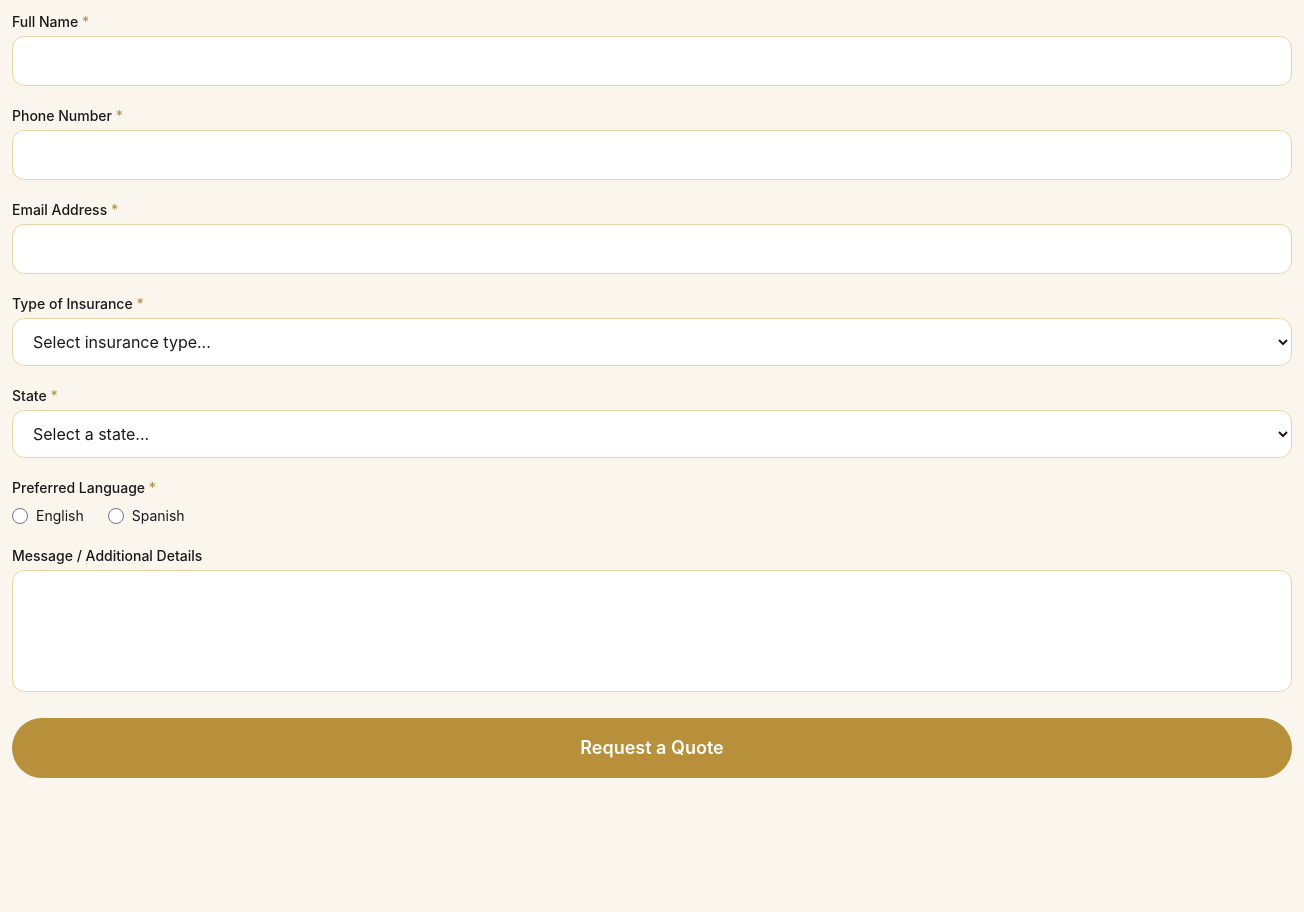
it: QuoteForm › shows email validation error for invalid email
The image size is (1304, 912).
Type "not-an-email" into the field labelled "Email Address *". click: coordinates (652, 249)
box: [12, 224, 1292, 274]
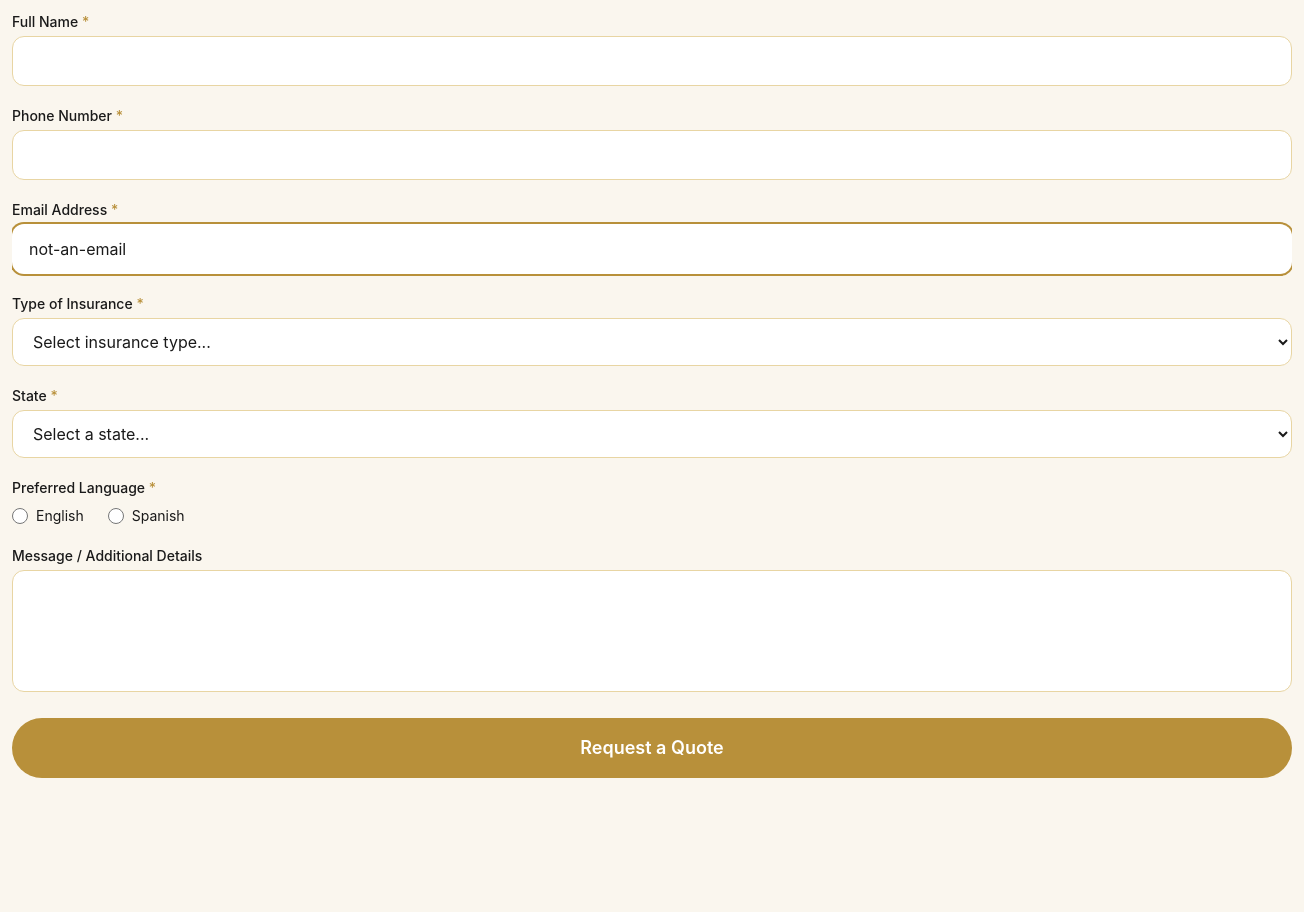
Click the button "Request a Quote". click: coordinates (652, 748)
box: [12, 718, 1292, 778]
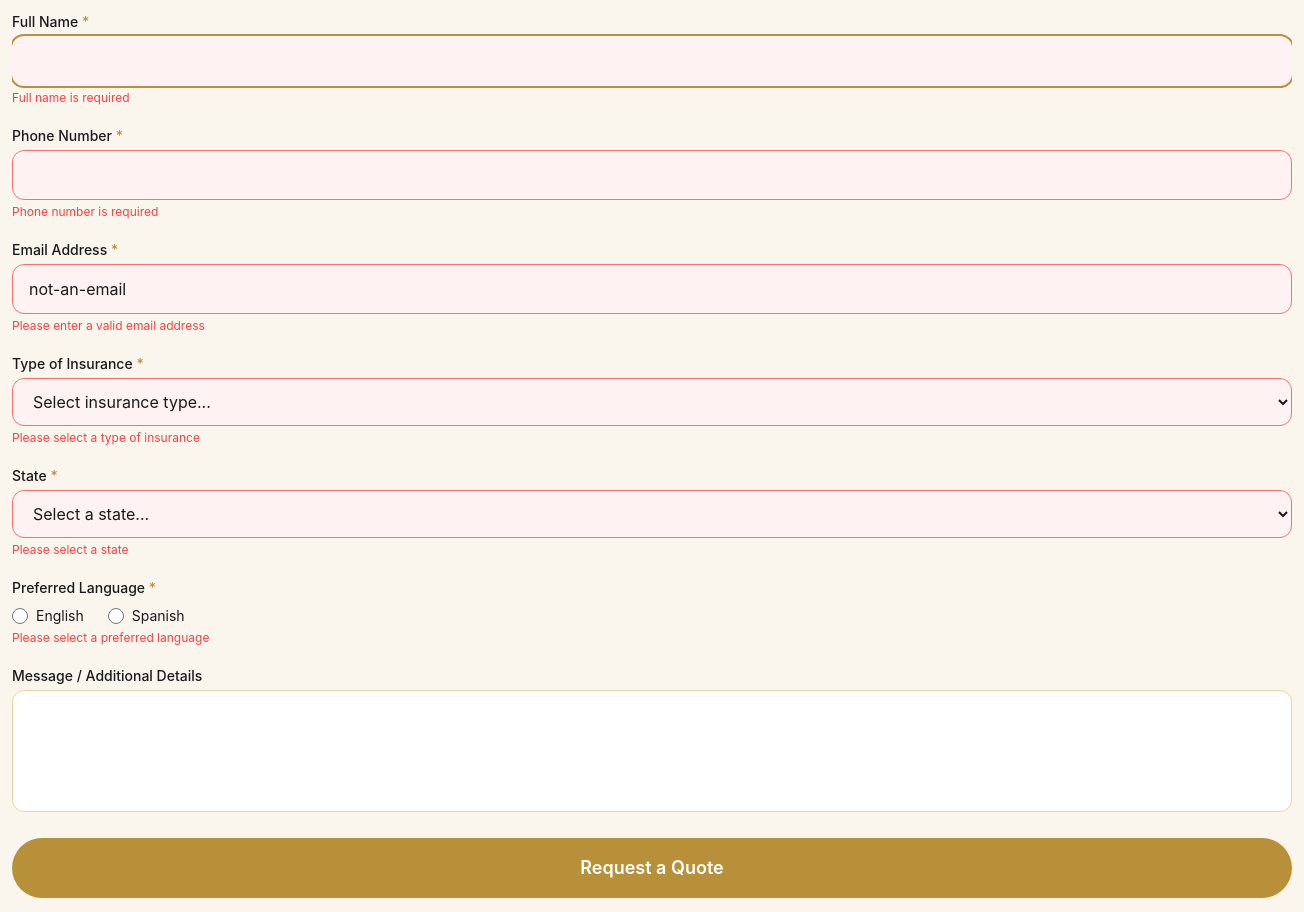
Check: the text "Please enter a valid email address" is shown, box [12, 318, 205, 333]
